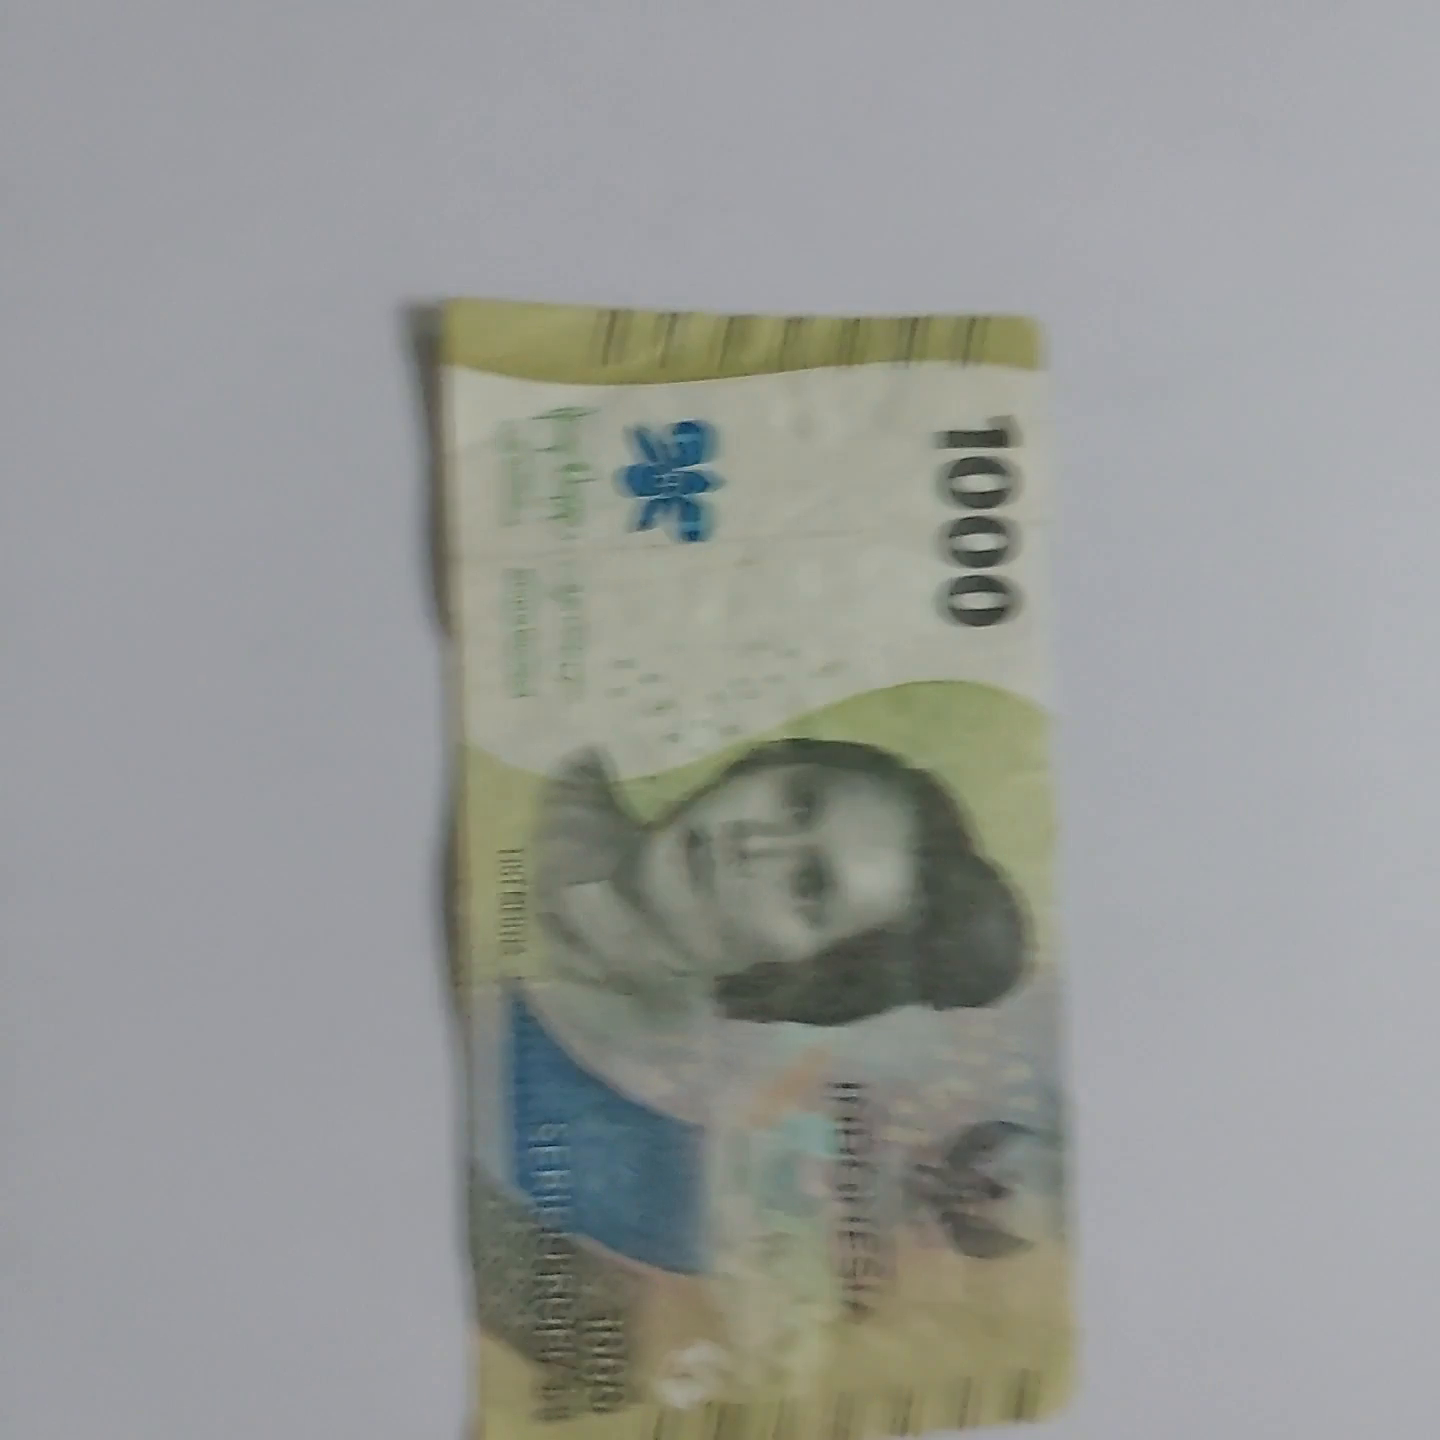1k: (418, 232, 1064, 1440)
